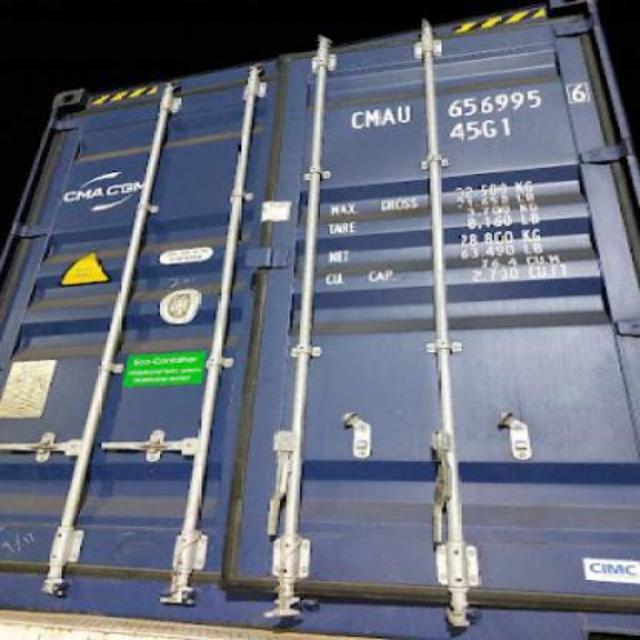5: (526, 88, 544, 112), (464, 95, 480, 116)
6: (446, 98, 464, 118), (480, 94, 496, 114), (570, 84, 586, 102)
9: (506, 88, 526, 112), (494, 91, 510, 112)
A: (380, 104, 398, 128)
C: (350, 111, 366, 129)
M: (368, 109, 380, 127)
U: (398, 104, 414, 126)
